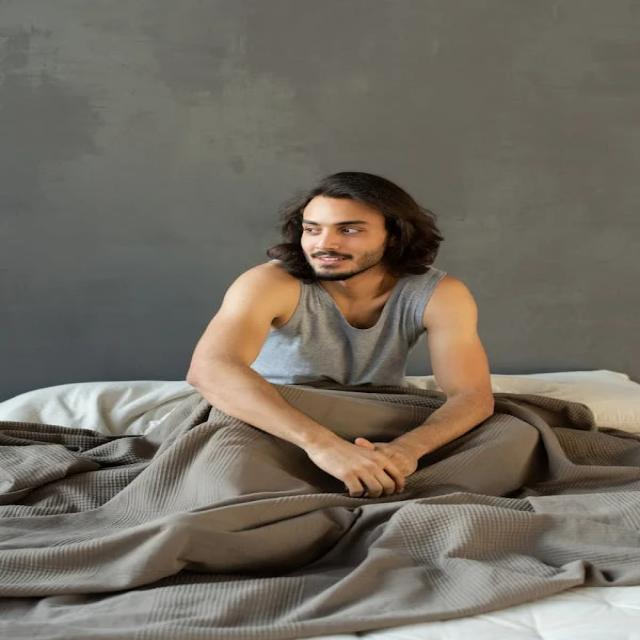Real human 2: (180, 154, 538, 526)
